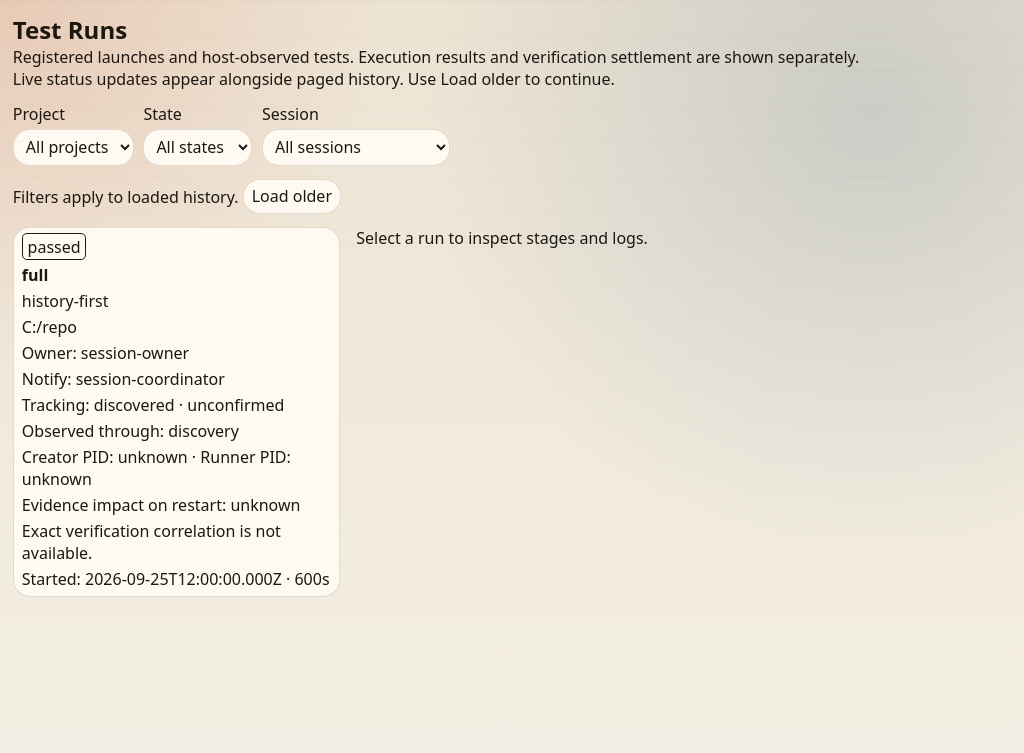
Scenario: loads omitted terminal history and fetches older pages only on request
Expected: the text "history-first" is shown, [22, 290, 109, 312]
Expected: the text "history-second" is not shown
Click the button "Load older": (292, 196) [243, 179, 341, 214]
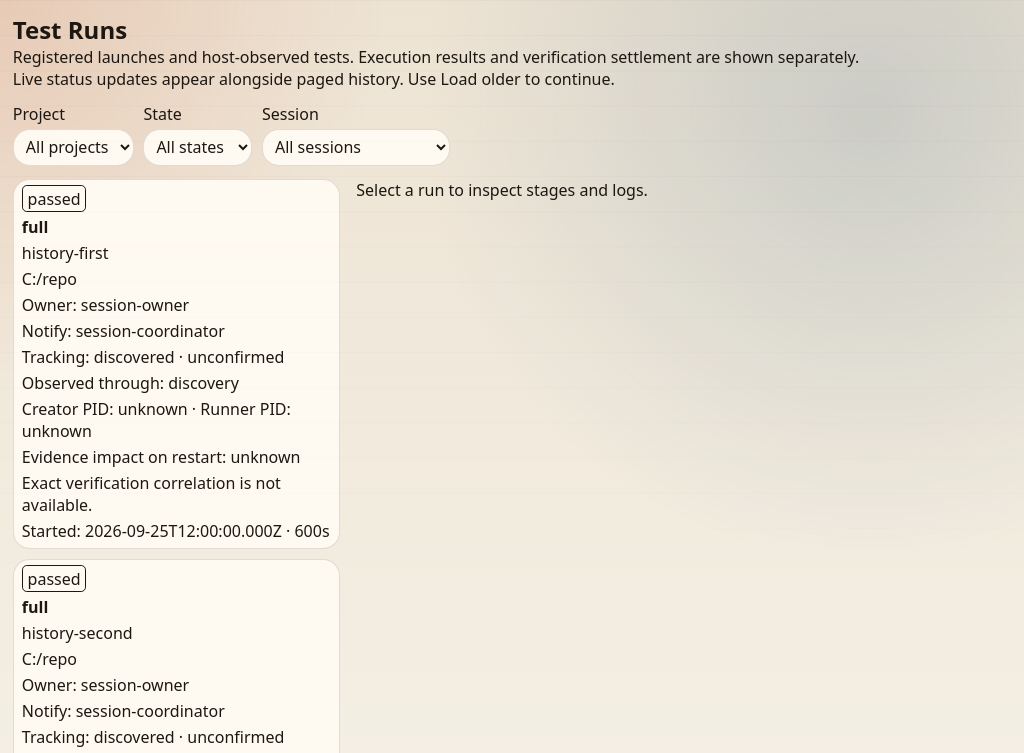
Expected: the text "history-second" is shown, [22, 622, 133, 644]
